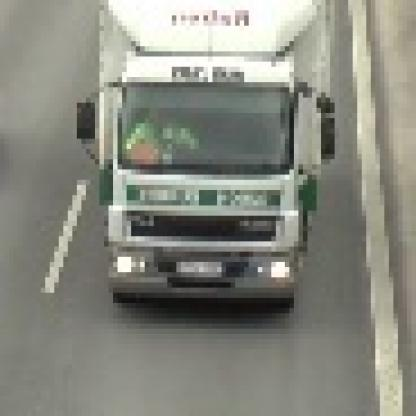truck: (69, 1, 331, 309)
